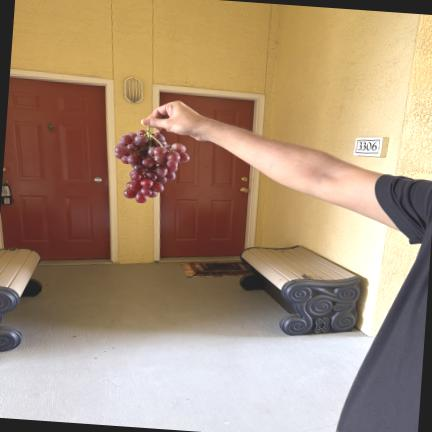grape_cluster: (114, 126, 189, 203)
